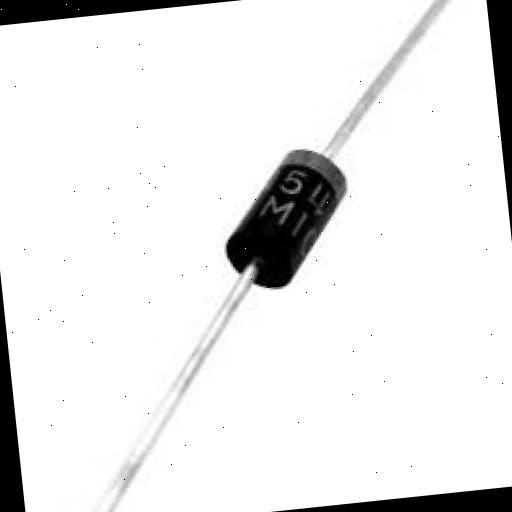DIODE: (27, 0, 512, 512)
